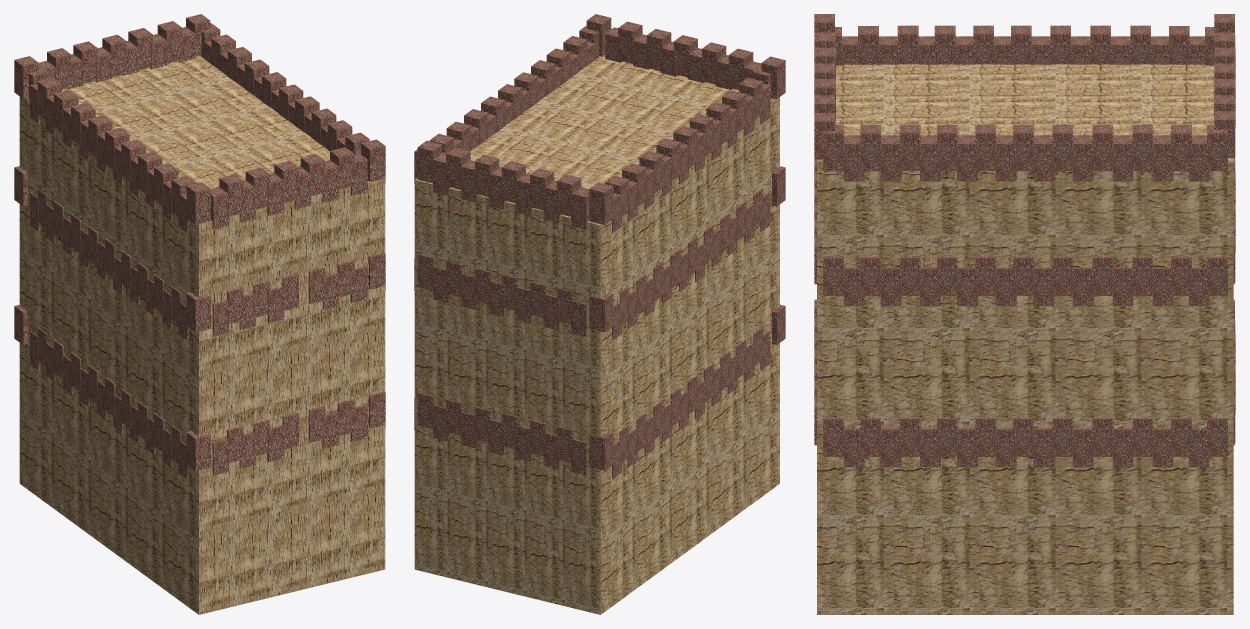
Rendered from Sumerian_wall.fbx.
3 views of the same model, side by side, from view 1: azimuth 30°, elevation 25°; view 2: azimuth 150°, elevation 25°; view 3: azimuth 270°, elevation 25° (orthographic). The views are drawn at different scales.
Parts seen in each view (by area): view 1: Cube.064, Cube.147, Cube.218, Cube.217, Cube.135, Cube.142, Cube.143, Cube.127, Cube.139, Cube.123, Cube.146, Cube.130 (+46 smaller); view 2: Cube.064, Cube.122, Cube.193, Cube.242, Cube.134, Cube.131, Cube.138, Cube.130, Cube.139, Cube.147, Cube.125, Cube.123 (+45 smaller); view 3: Cube.064, Cube.112, Cube.109, Cube.106, Cube.105, Cube.116, Cube.121, Cube.110, Cube.117, Cube.113, Cube.107, Cube.120 (+70 smaller).
Boxes of the visible parts, x1,y1,x2,y2 form: Cube.064: (19,55,385,614); Cube.147: (186,182,210,224); Cube.218: (186,431,210,471); Cube.217: (186,292,210,332); Cube.135: (361,139,385,182); Cube.142: (274,160,298,203); Cube.143: (219,174,243,216); Cube.127: (102,34,126,77); Cube.139: (300,154,325,196); Cube.123: (73,41,97,83); Cube.146: (245,167,269,210); Cube.130: (128,28,152,70); Cube.064: (414,55,779,614); Cube.122: (589,182,613,224); Cube.193: (589,292,613,332); Cube.242: (589,431,613,470); Cube.134: (417,140,441,183); Cube.131: (446,147,470,189); Cube.138: (618,21,642,63); Cube.130: (474,154,499,196); Cube.139: (646,29,671,70); Cube.147: (761,56,785,99); Cube.125: (571,187,589,229); Cube.123: (530,168,554,210); Cube.064: (817,64,1233,614); Cube.112: (1072,135,1093,181); Cube.109: (1112,135,1133,181); Cube.106: (860,124,880,171); Cube.105: (1171,124,1191,171); Cube.116: (995,135,1016,181); Cube.121: (880,135,901,181); Cube.110: (1092,124,1113,170); Cube.117: (957,135,977,181); Cube.113: (1033,135,1053,181); Cube.107: (1132,124,1152,170); Cube.120: (920,135,940,181).
Bounding box in the file's own units: 312 × 653 × 506.
2 materials, 2 textured.
